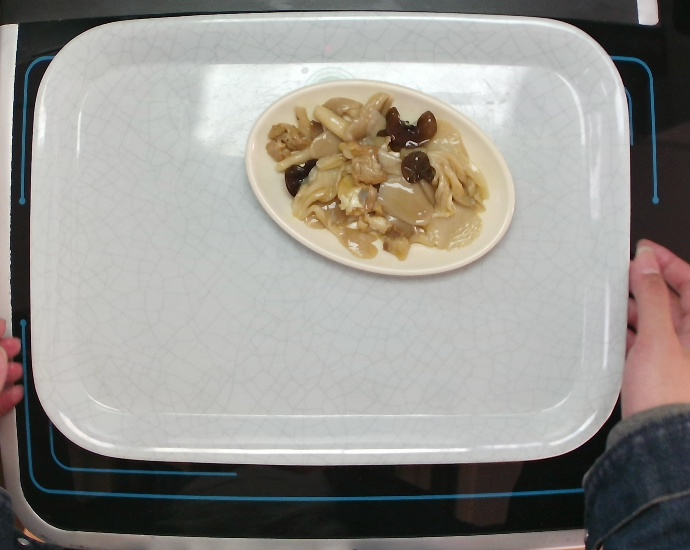JYsf-Tuo_Yuan_Wan: (243, 77, 516, 280)
